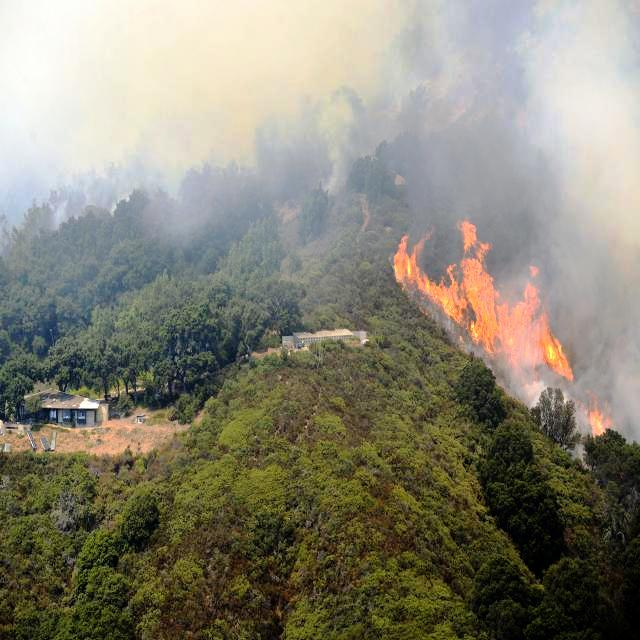api: (402, 232, 547, 355), (548, 344, 575, 377), (590, 412, 613, 435)
asap: (1, 8, 640, 227), (553, 235, 640, 434), (498, 356, 553, 423)
